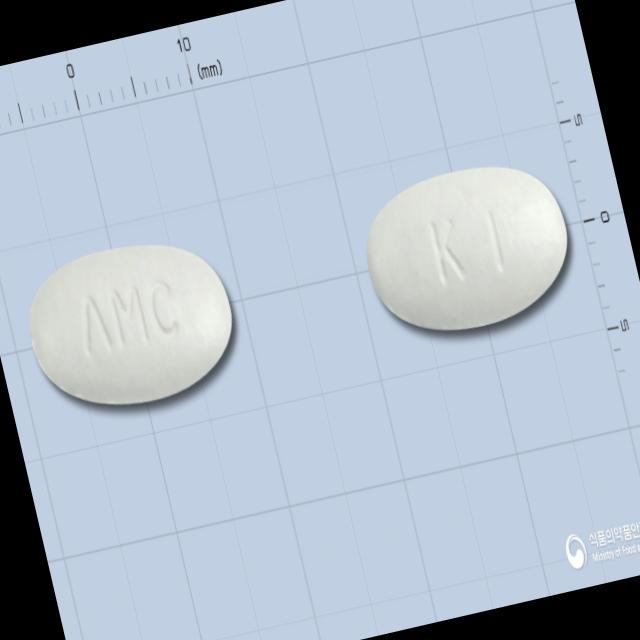Amocla 625mg: (11, 218, 251, 431), (350, 146, 586, 350)
